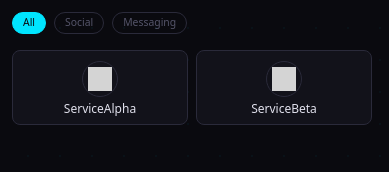
it: ServiceGrid › filters services by category
# Click "Social" category tab
Click the button "Social" at (79, 23), box [54,12,104,34]
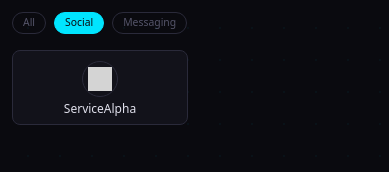
Expected: the text "ServiceAlpha" is shown, [64,101,136,116]
Expected: the button "ServiceBeta" is gone
# Click "All" to show all again
Click the button "All" at (29, 23), box [12,12,46,34]
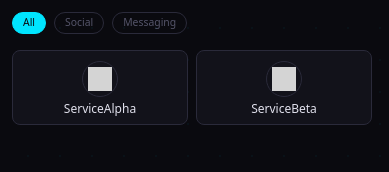
Expected: the text "ServiceAlpha" is shown, [64,101,136,116]
Expected: the text "ServiceBeta" is shown, [251,101,317,116]
